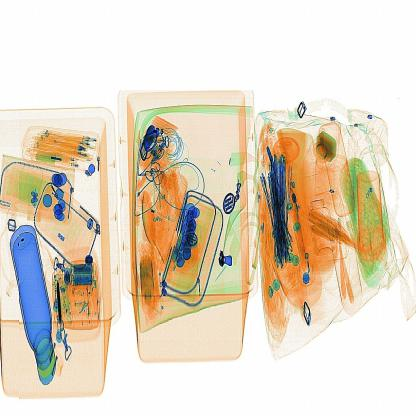wrench: (214, 242, 244, 275)
